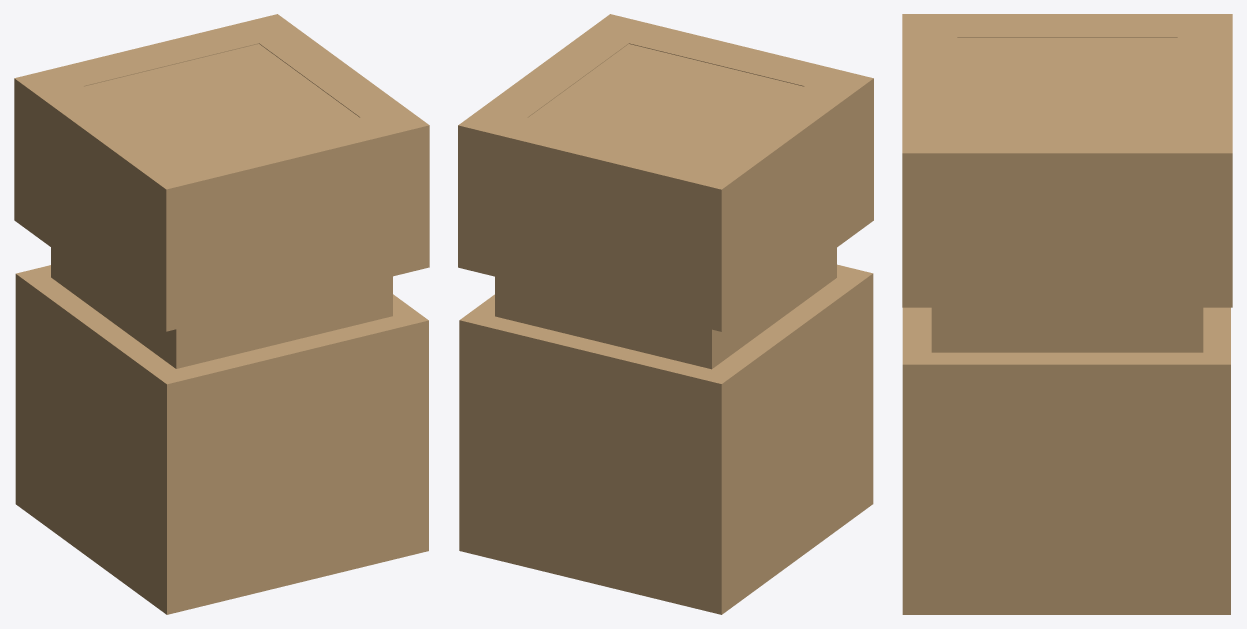
3 renders of one model, left to right at view 1: azimuth 30°, elevation 25°; view 2: azimuth 150°, elevation 25°; view 3: azimuth 270°, elevation 25°, orthographic. The views are drawn at different scales.
Parts seen in each view (by area): view 1: 四角1_白; view 2: 四角1_白; view 3: 四角1_白.
Part boxes in pixels (left/top/right/bottom): 四角1_白: left=14, top=14, right=429, bottom=614; 四角1_白: left=458, top=14, right=873, bottom=614; 四角1_白: left=902, top=14, right=1232, bottom=614.
Bounding box in the file's own units: 0.022 × 0.034 × 0.022.
